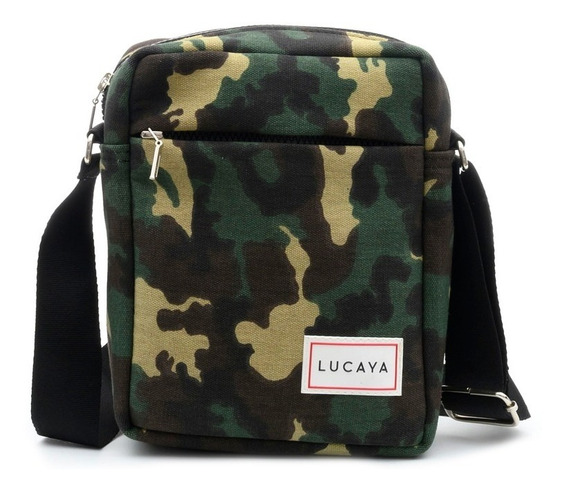cartera: (32, 22, 532, 461)
